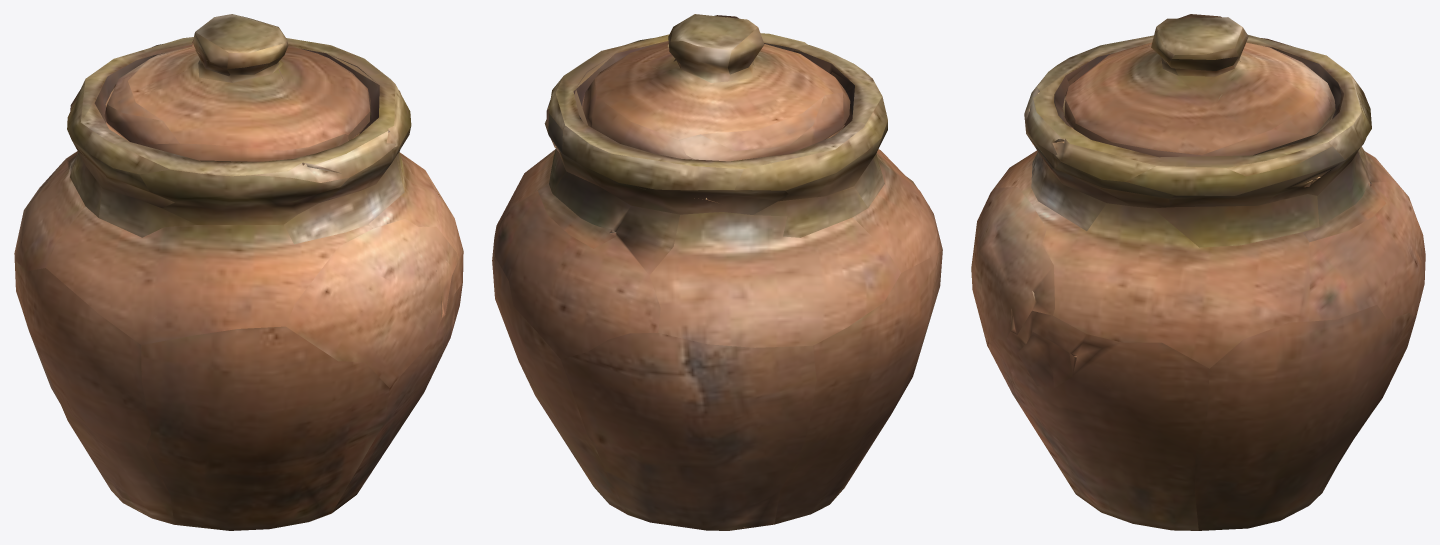
The picture shows the model from 3 angles, left to right: view 1: azimuth 30°, elevation 25°; view 2: azimuth 150°, elevation 25°; view 3: azimuth 270°, elevation 25°; orthographic projection.
Parts seen in each view (by area): view 1: geometry_0; view 2: geometry_0; view 3: geometry_0.
Part boxes in pixels (x1,y1,x2,y2): geometry_0: (14, 14, 463, 530); geometry_0: (492, 14, 942, 530); geometry_0: (971, 14, 1425, 530).
Size of the model in its own units: 0.3461 by 0.3798 by 0.3447.
1 material, 1 textured.
